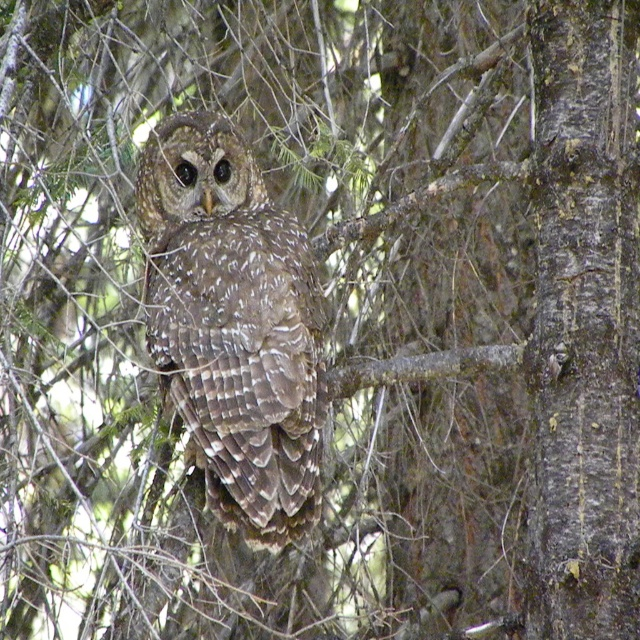Owl: (133, 108, 331, 556)
